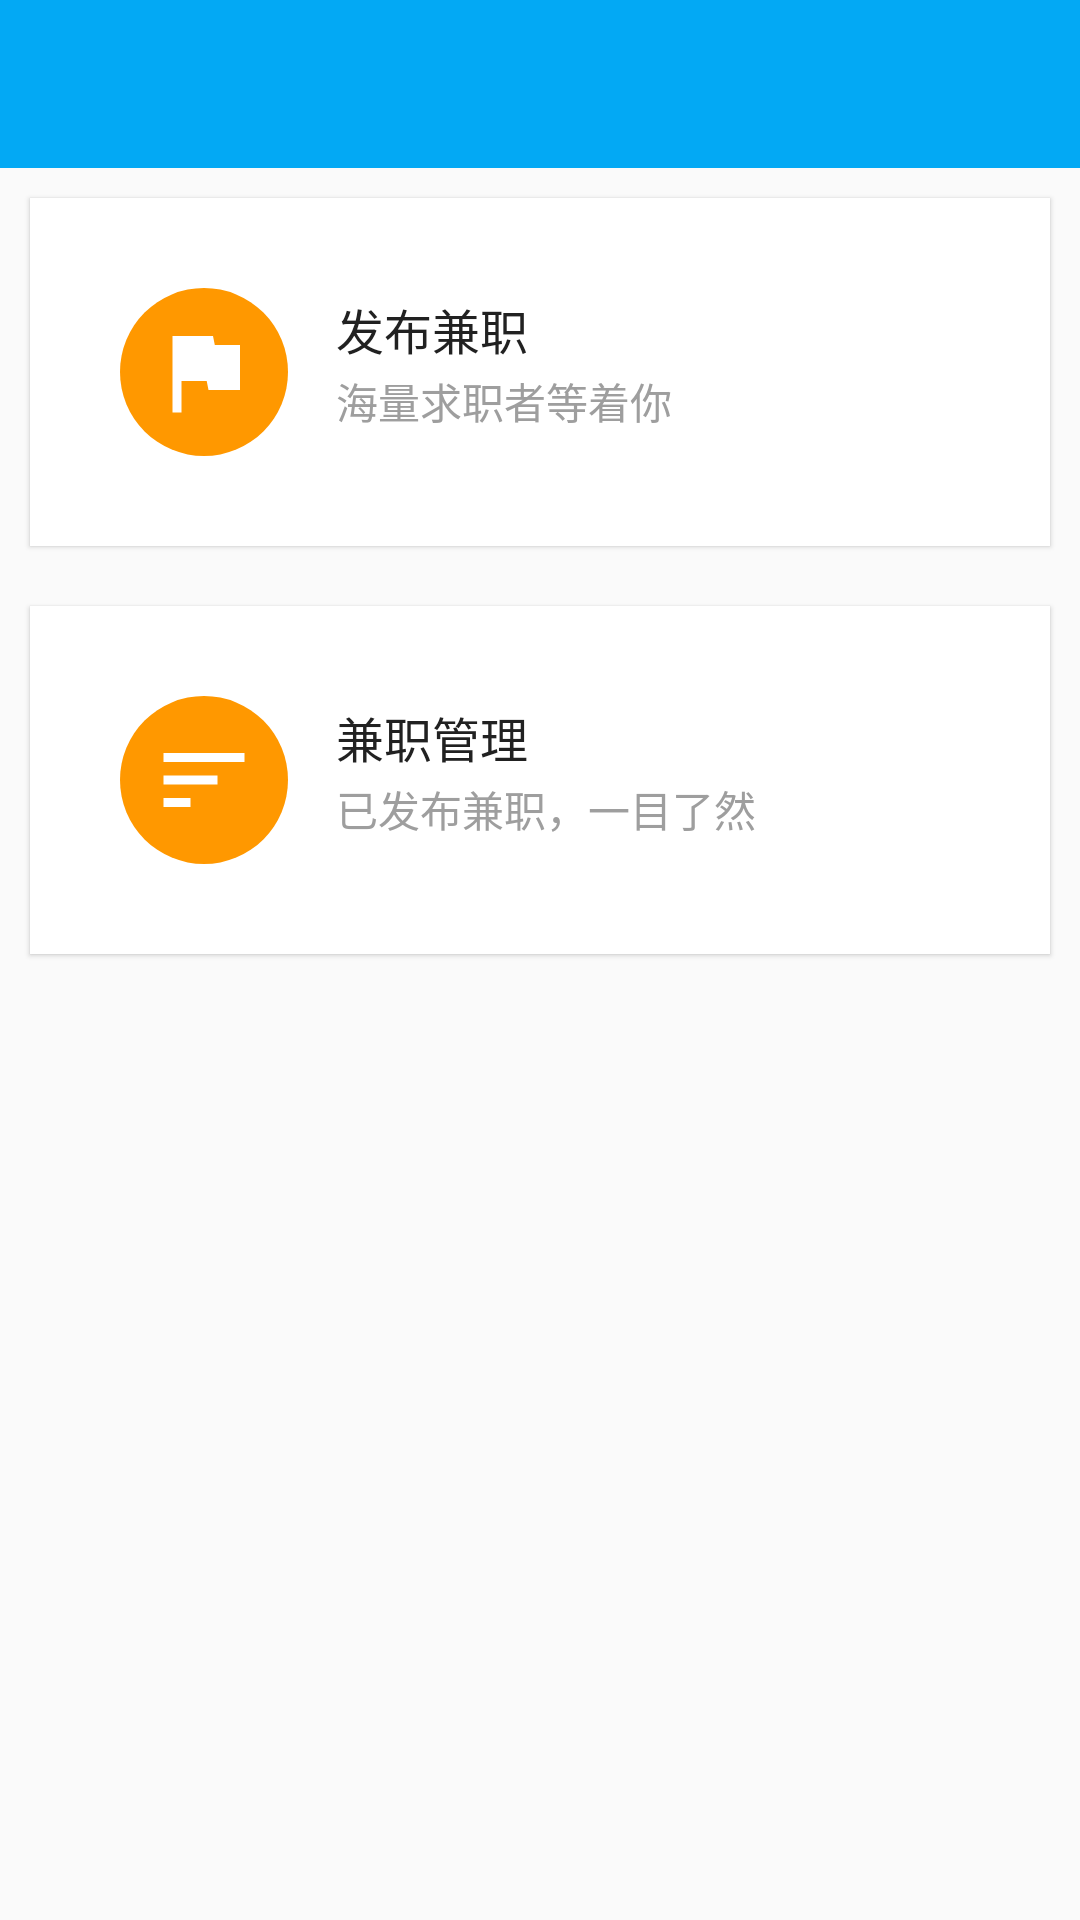

Icons on this 1080×1920 Android screen, each with its box as (x1, y1, x2, y2):
flag: (172, 336, 240, 413)
sort: (163, 753, 245, 807)
